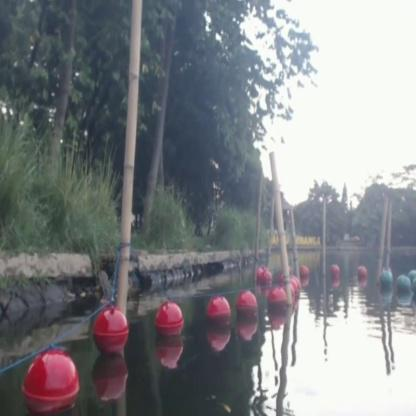green_buoy: (396, 273, 412, 301), (380, 268, 392, 296)
red_buoy: (23, 355, 80, 415), (93, 306, 128, 355), (155, 304, 183, 340), (207, 298, 229, 334), (238, 293, 256, 327), (268, 288, 286, 316), (258, 270, 272, 288), (356, 262, 367, 284), (329, 262, 341, 278), (300, 264, 309, 278)
